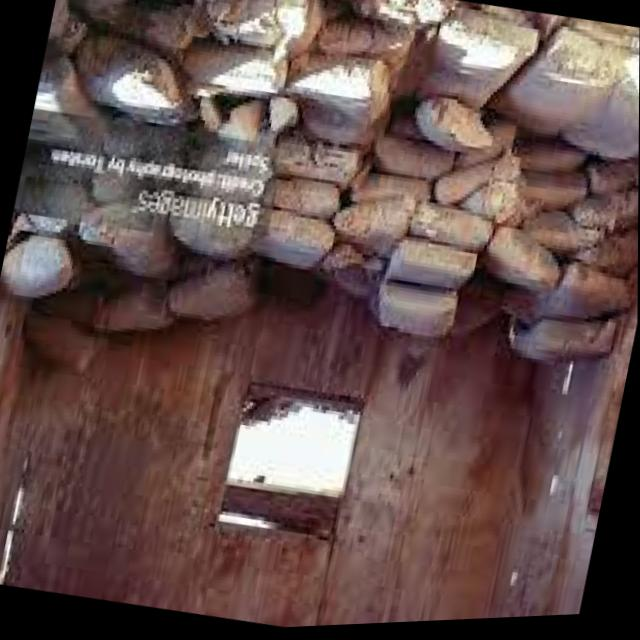cement_bag: (491, 41, 614, 149), (82, 191, 173, 283), (562, 70, 639, 168), (27, 55, 99, 152), (80, 35, 170, 104), (507, 276, 631, 324), (440, 11, 530, 73), (507, 330, 599, 384), (168, 262, 242, 325), (2, 234, 66, 297), (420, 99, 492, 155), (276, 135, 354, 183), (288, 61, 374, 104), (185, 47, 273, 89), (177, 191, 251, 238), (372, 140, 450, 183), (91, 293, 161, 340), (325, 21, 407, 60), (515, 171, 591, 210), (399, 239, 472, 279), (419, 208, 490, 249), (433, 164, 491, 213), (382, 283, 453, 322), (340, 194, 404, 236), (587, 190, 639, 239), (268, 187, 339, 217), (273, 218, 327, 248)
